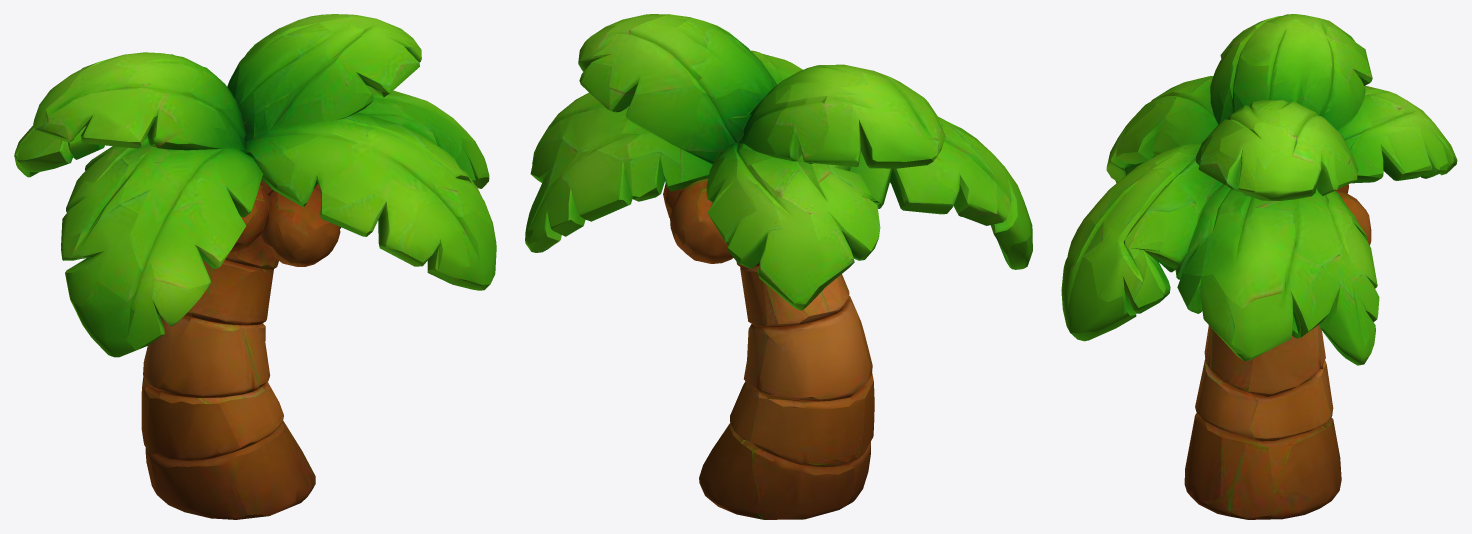
Rendered from oe-palme.glb.
3 views of the same model, side by side, from view 1: azimuth 30°, elevation 25°; view 2: azimuth 150°, elevation 25°; view 3: azimuth 270°, elevation 25° (orthographic). The views are drawn at different scales.
Bounding box in the file's own units: 1.9 × 1.78 × 1.51.
1 material, 1 textured.
